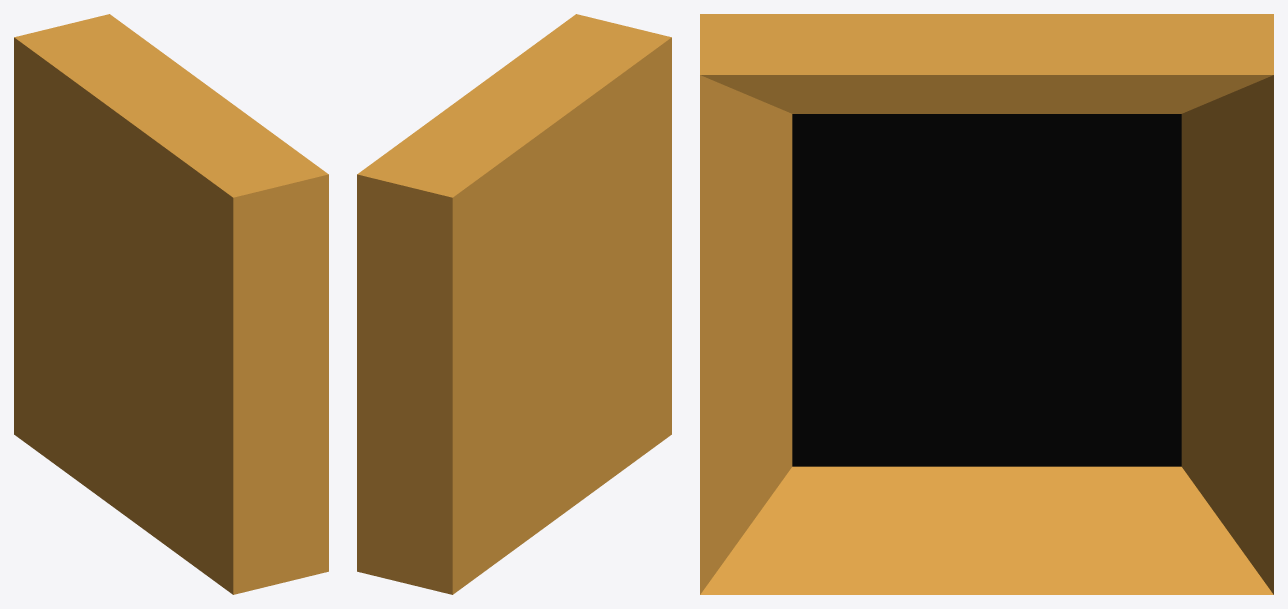
Rendered from canonflame.fbx.
The picture shows the model from 3 angles, left to right: view 1: azimuth 30°, elevation 25°; view 2: azimuth 150°, elevation 25°; view 3: azimuth 270°, elevation 25°; orthographic projection. The views are drawn at different scales.
Parts seen in each view (by area): view 1: 立方体; view 2: 立方体; view 3: 立方体.
Boxes of the visible parts, x1,y1,x2,y2 form: 立方体: (14, 14, 328, 594); 立方体: (357, 14, 671, 594); 立方体: (700, 14, 1273, 594).
Size of the model in its own units: 50.36 by 200 by 200.
